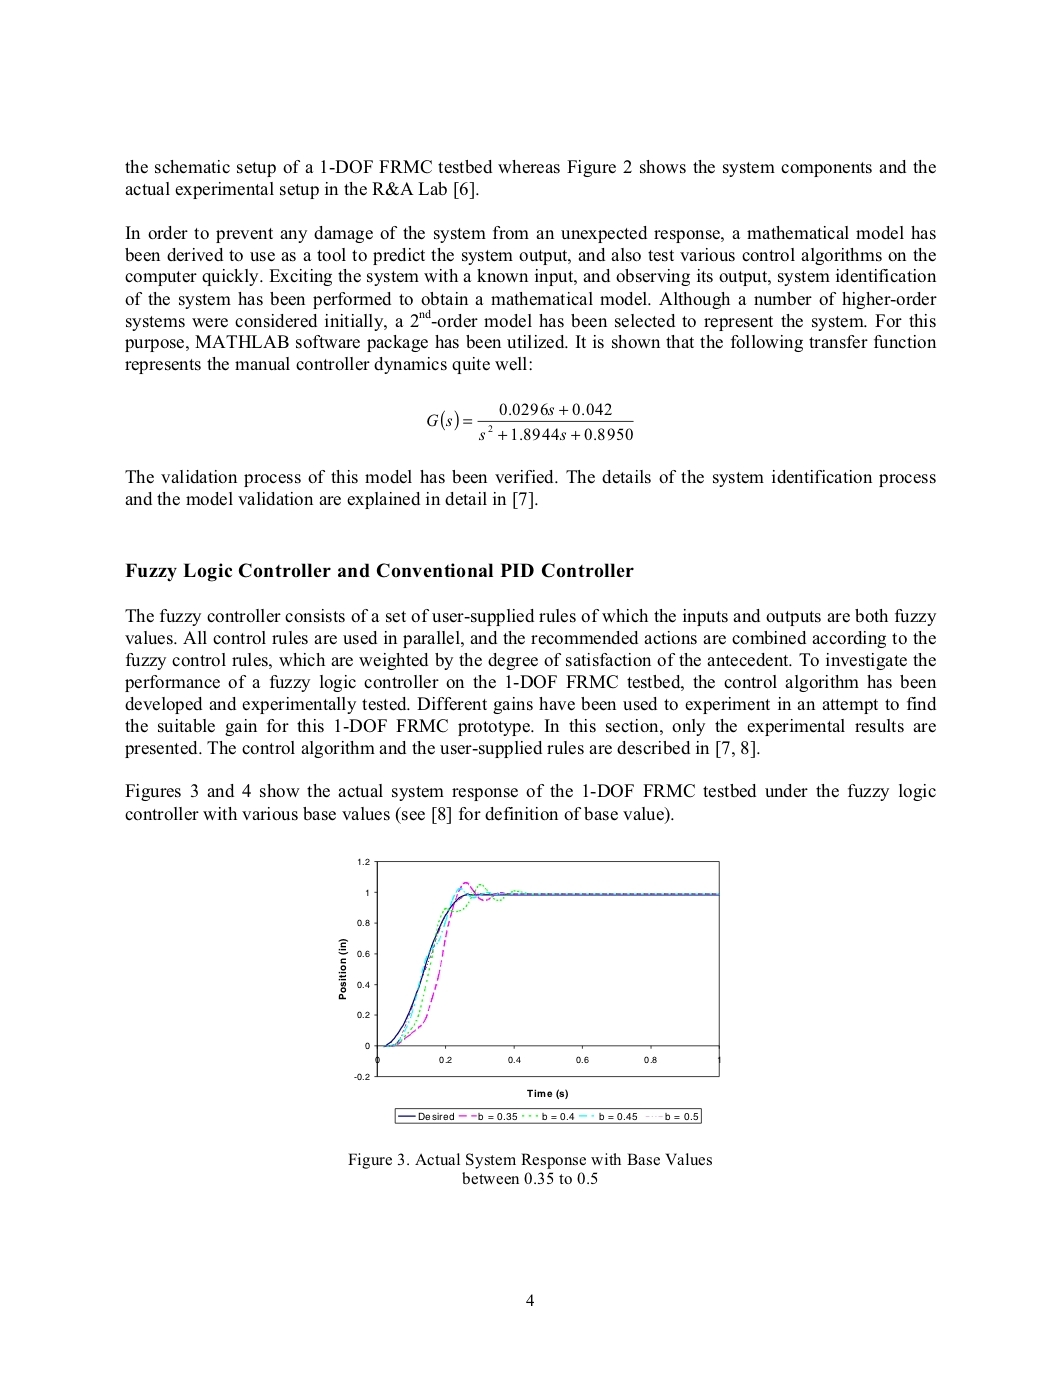figure: (338, 858, 720, 1123)
formula: (427, 402, 633, 441)
